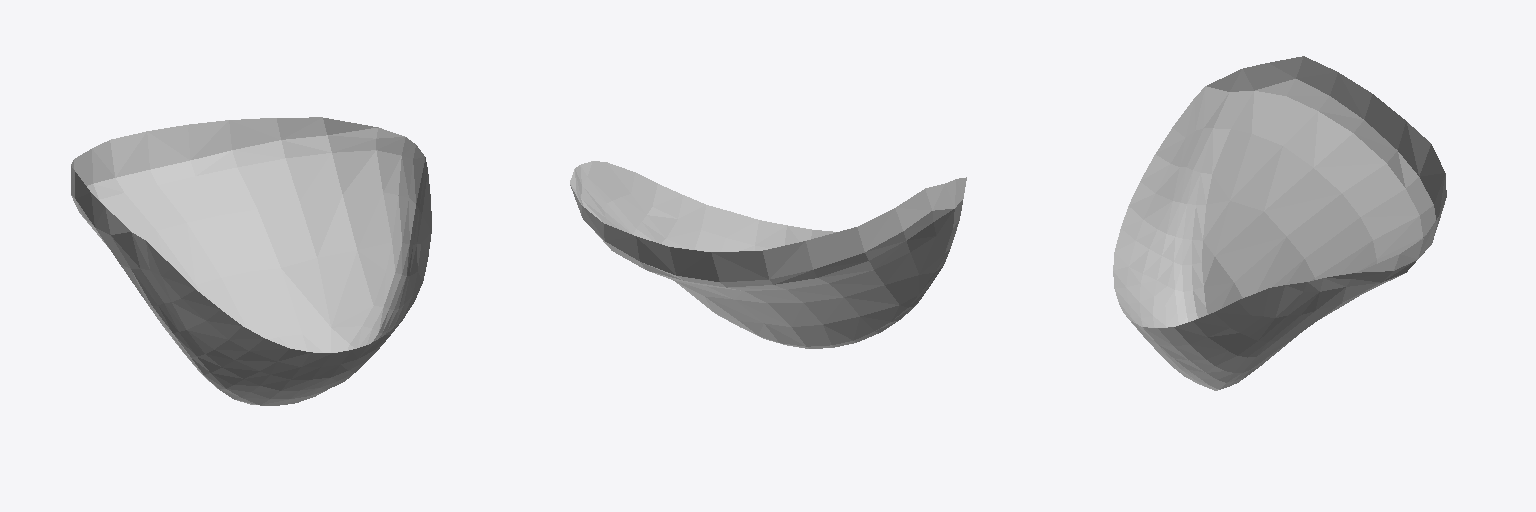
Rendered from trigger.obj.
3 views of the same model, side by side, from view 1: azimuth 30°, elevation 25°; view 2: azimuth 150°, elevation 25°; view 3: azimuth 270°, elevation 25° (orthographic).
Visible parts, largest first — view 1: r_trigger_5; view 2: r_trigger_5; view 3: r_trigger_5.
Part boxes in pixels (x1,y1,x2,y2): r_trigger_5: (71, 117, 431, 405); r_trigger_5: (570, 161, 966, 348); r_trigger_5: (1113, 56, 1446, 390).
Size of the model in its own units: 0.0358 by 0.0231 by 0.0297.